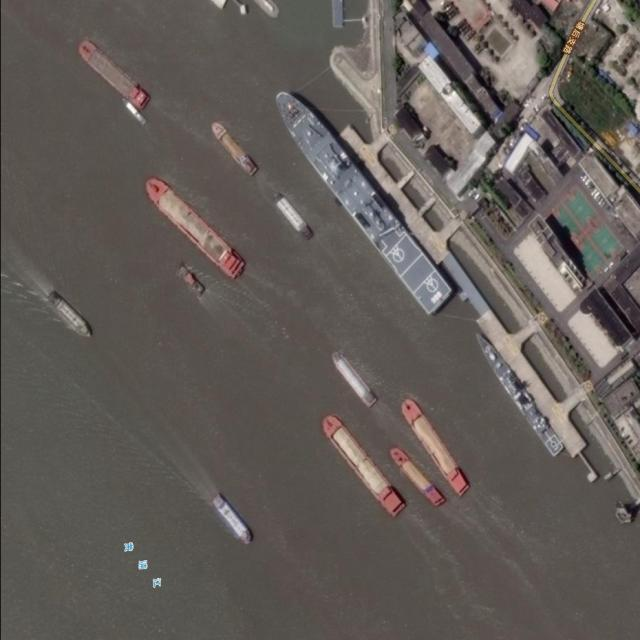Cargo: (137, 175, 248, 282), (314, 411, 410, 521), (395, 396, 475, 500), (72, 33, 151, 110), (385, 443, 447, 509), (207, 116, 262, 181), (328, 346, 381, 409), (207, 491, 257, 547), (43, 289, 96, 341), (269, 188, 316, 243), (175, 264, 206, 297)
Frigate: (468, 329, 564, 457)
Landing: (266, 85, 458, 318)
Other Warship: (120, 97, 148, 127)
